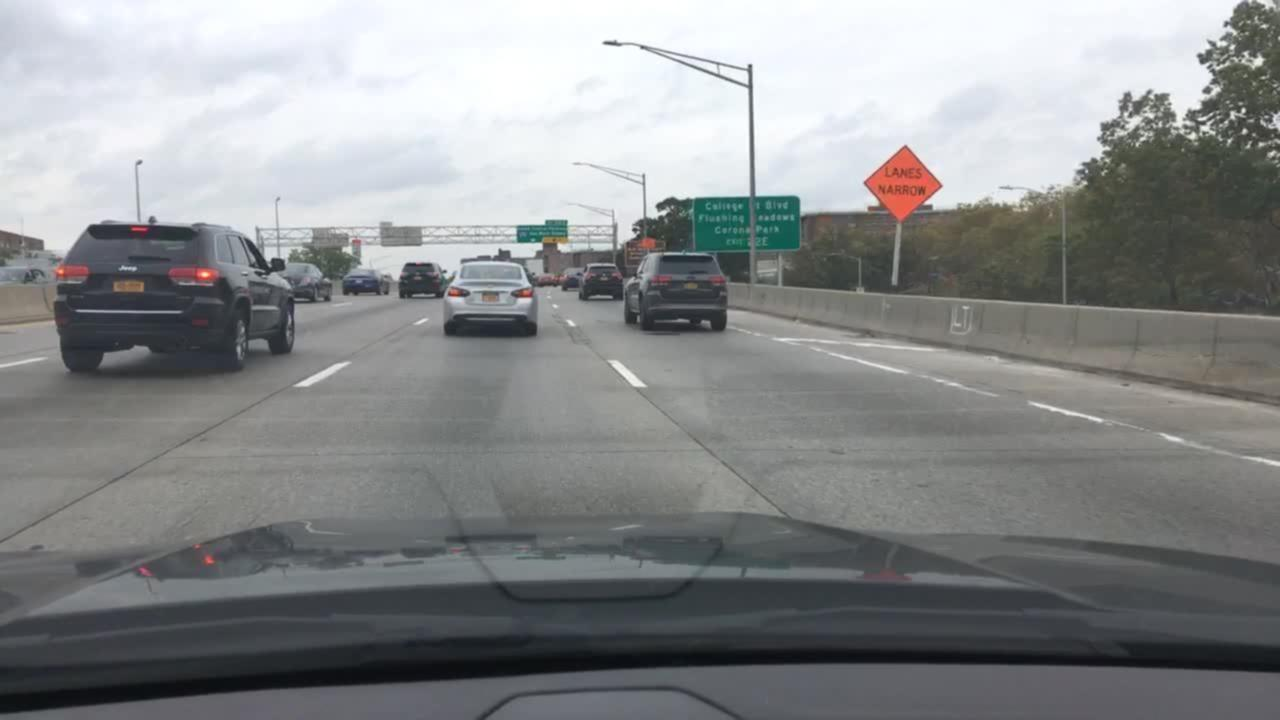jeep: (115, 260, 144, 277)
